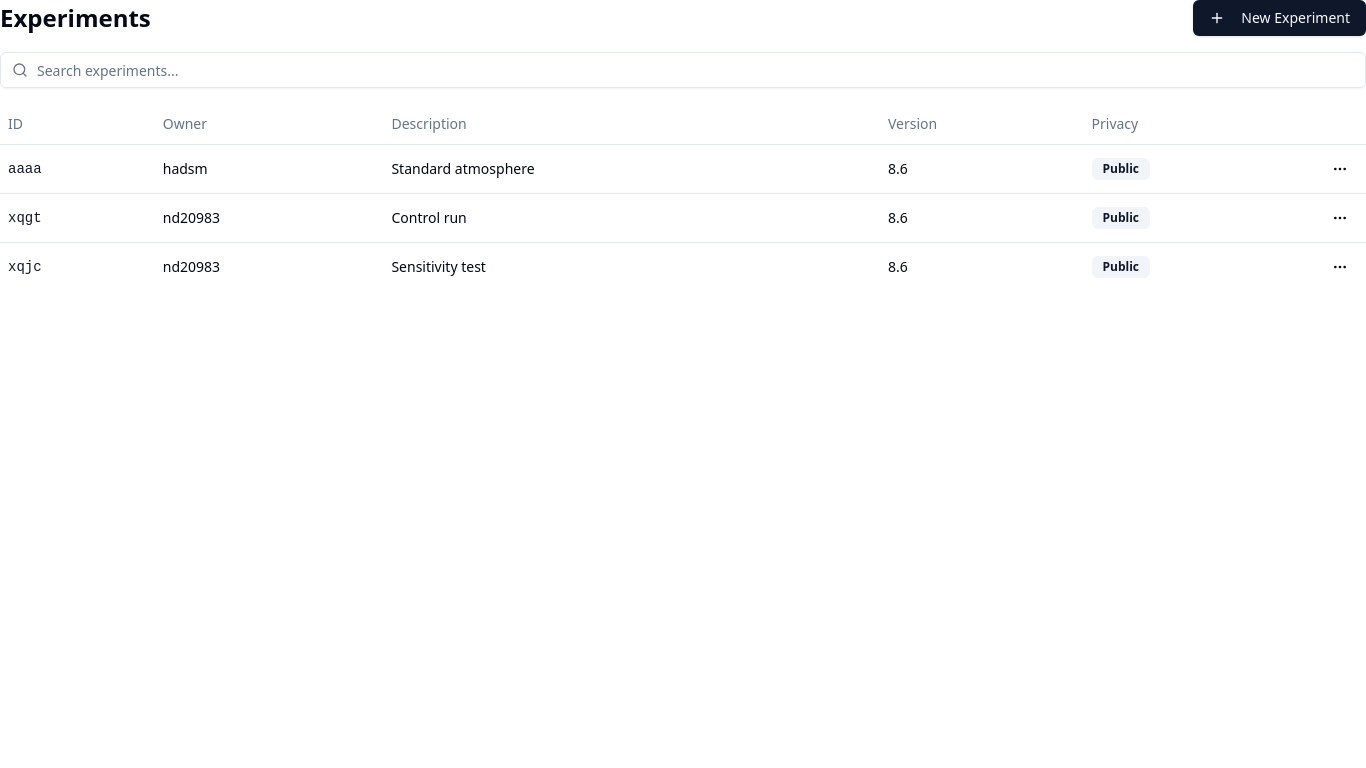
Test: Experiment CRUD flow › creates a new experiment via dialog
This screenshot has width=1366, height=768.
Expected: the heading "Experiments" is shown, [0,2,151,34]
Note: Open create dialog
Click the button "New Experiment": [1280, 18] box [1193,0,1365,36]
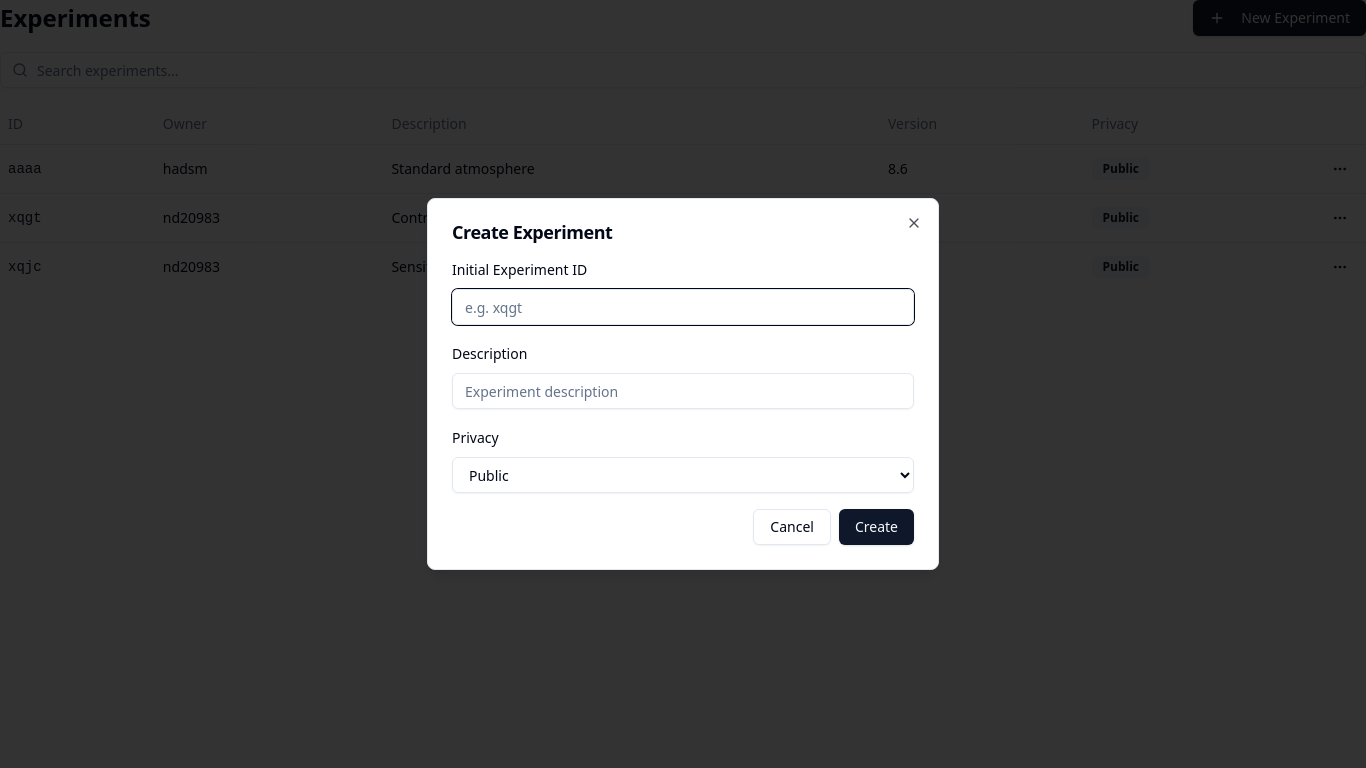
Expected: the heading "Create Experiment" is shown, [452,220,612,244]
Note: Fill form
In the field labelled "Initial Experiment ID": [683, 307] box [452,289,914,325], type "test"
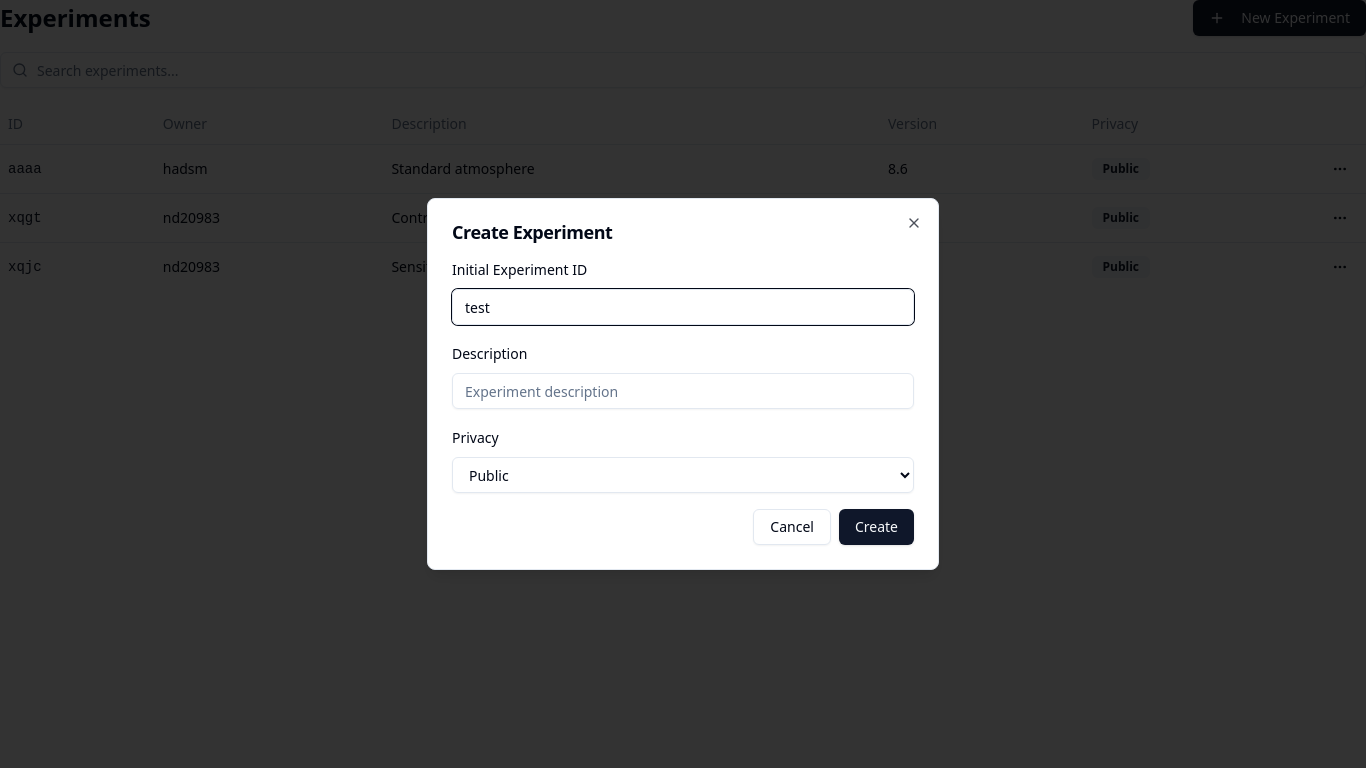
In the field labelled "Description": [683, 391] box [452,373,914,409], type "Integration test experiment"
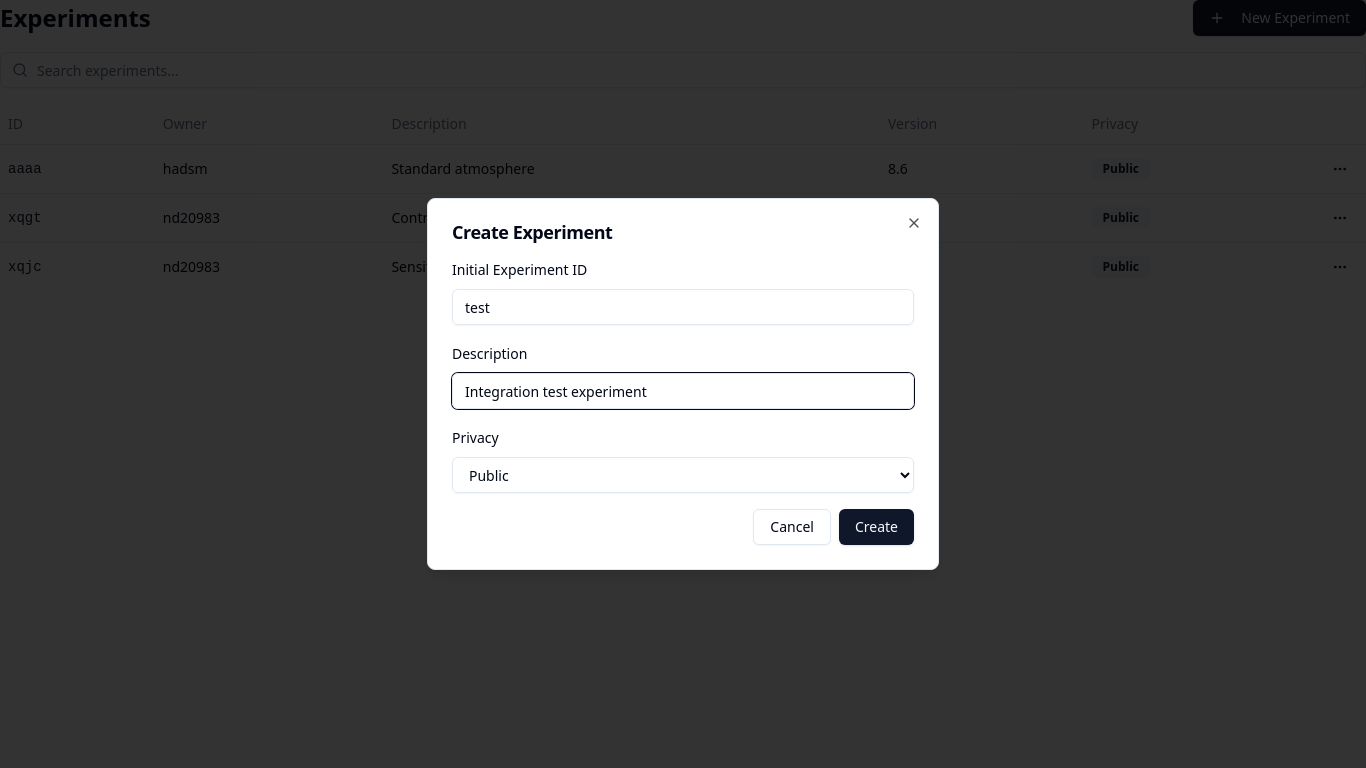
Click the button "Create": [876, 527] box [839,509,914,545]
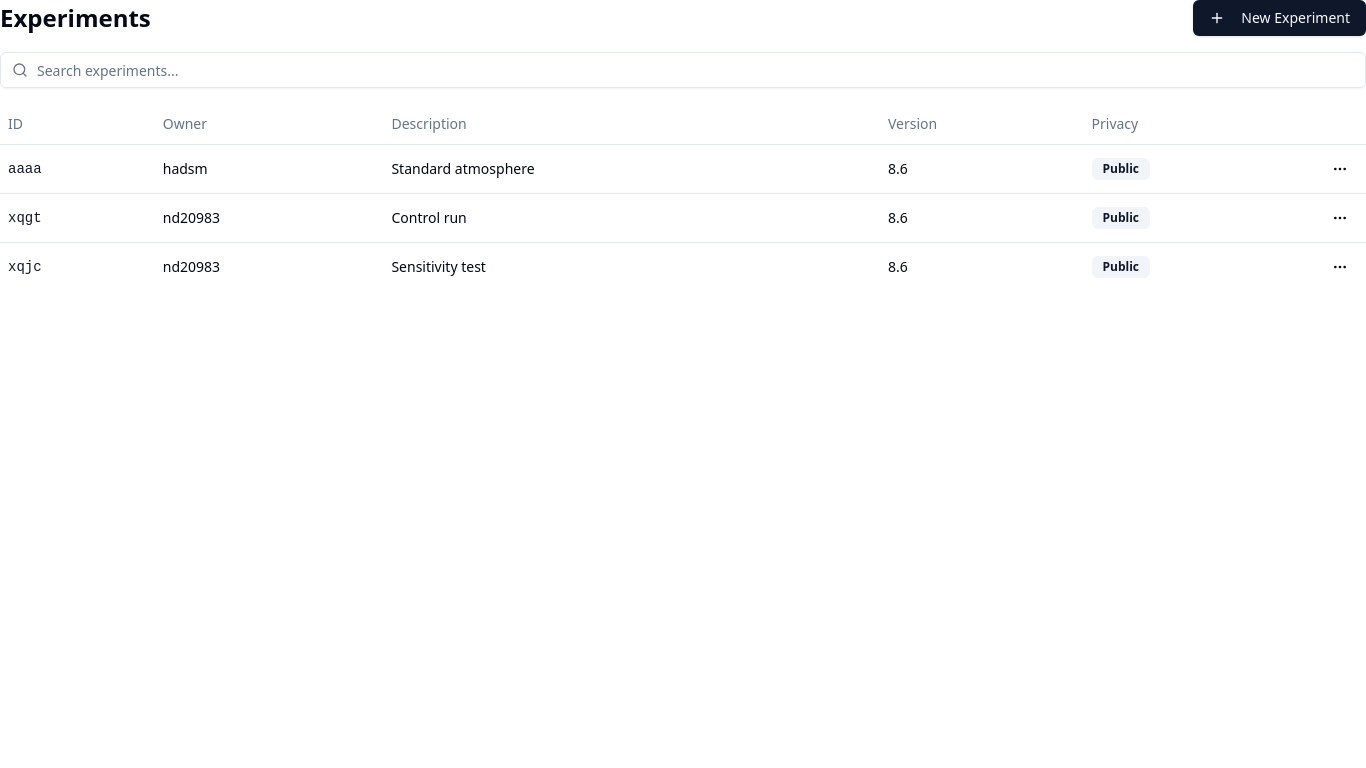
Expected: the heading "Create Experiment" is gone
